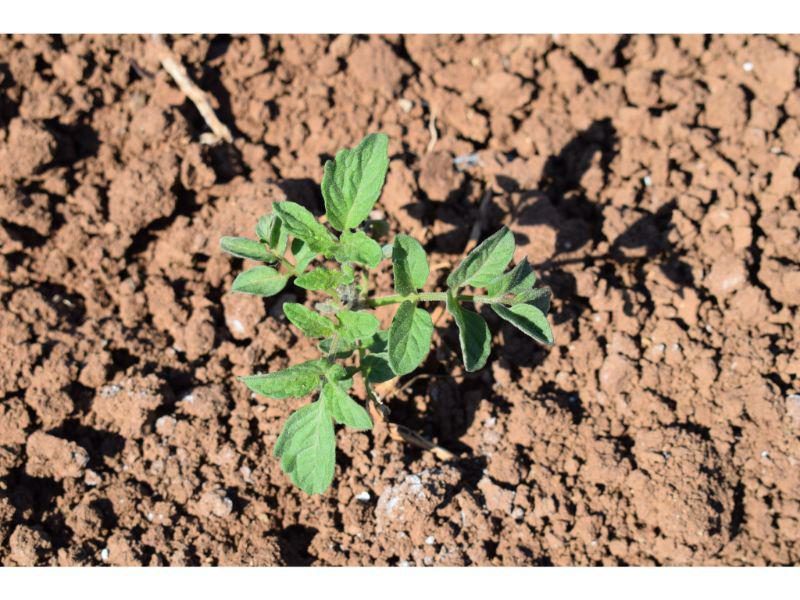tomato: (222, 132, 559, 492)
